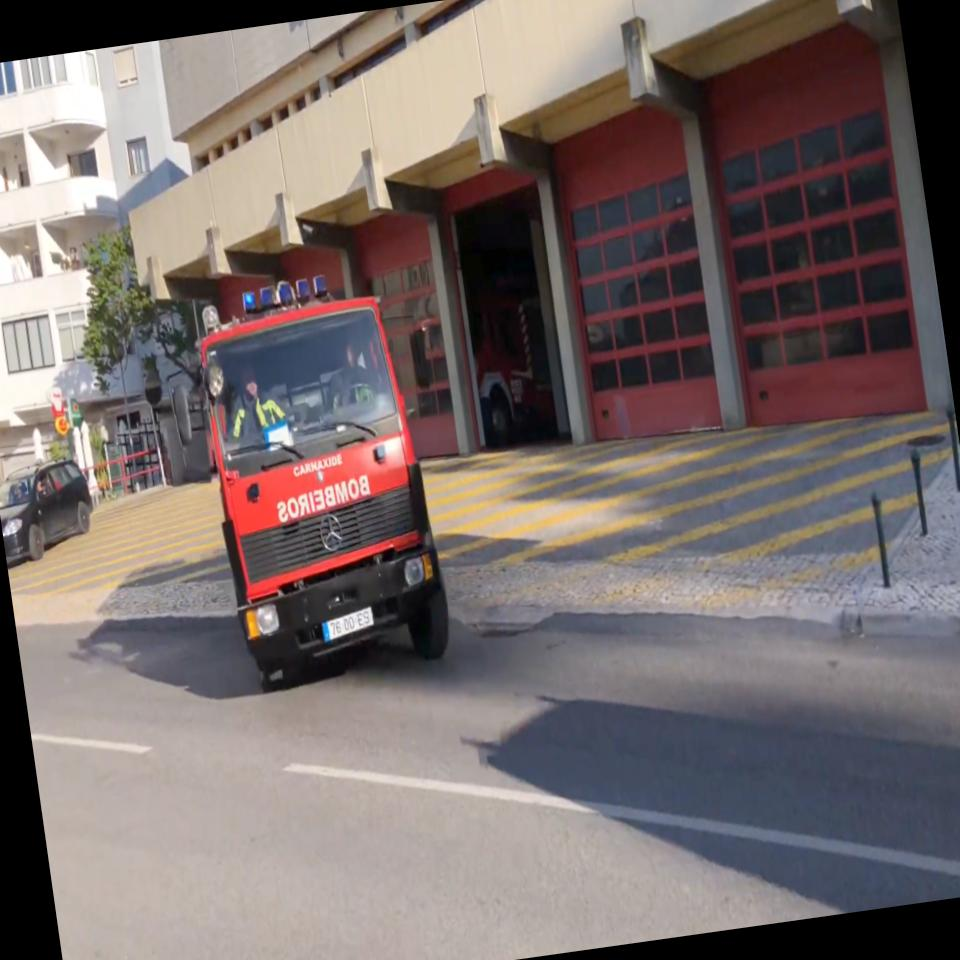viatura: (156, 253, 478, 702)
